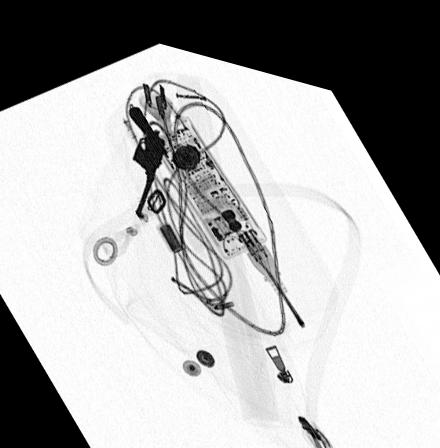Gun: (127, 98, 167, 208)
